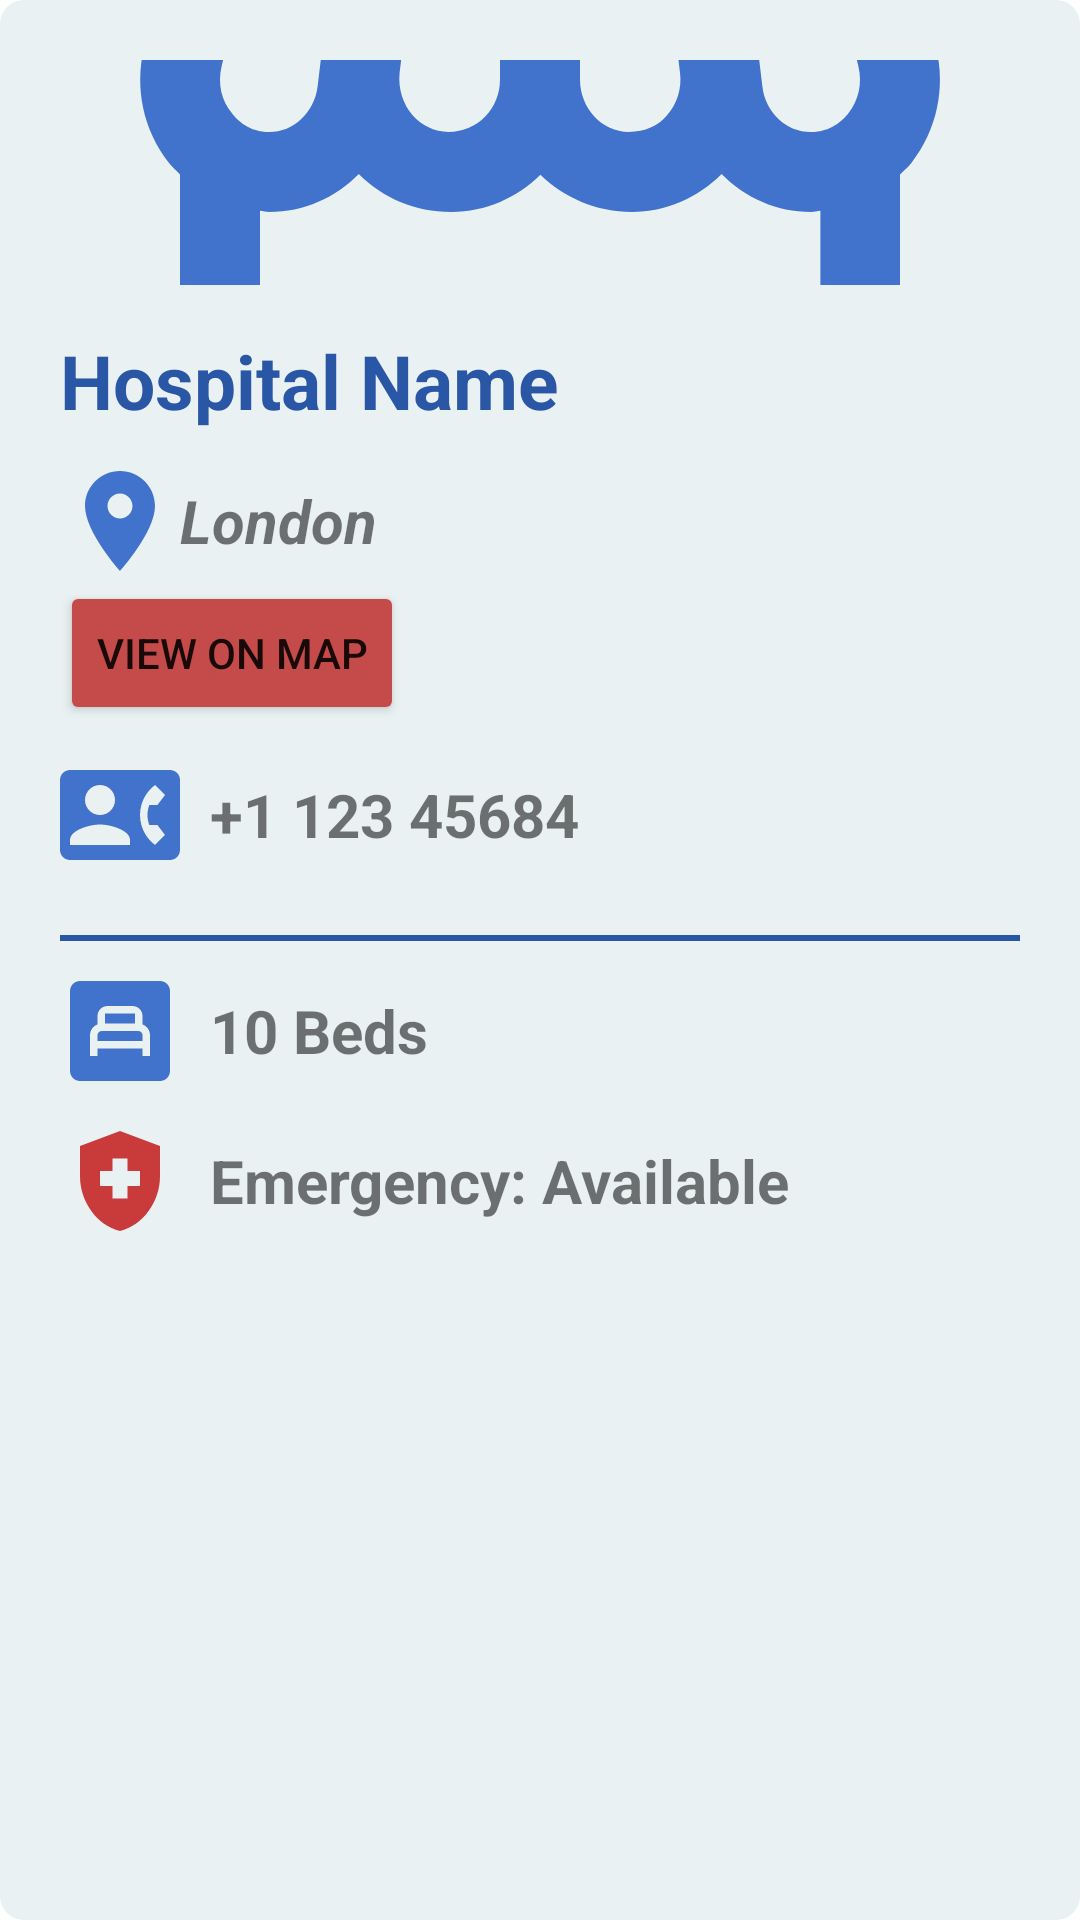

Named icons in this screenshot (1080px x 1920px) and their centers, (x,y):
bedroom child: (120,1031)
contact phone: (120,815)
health and safety: (120,1181)
location on: (120,521)
